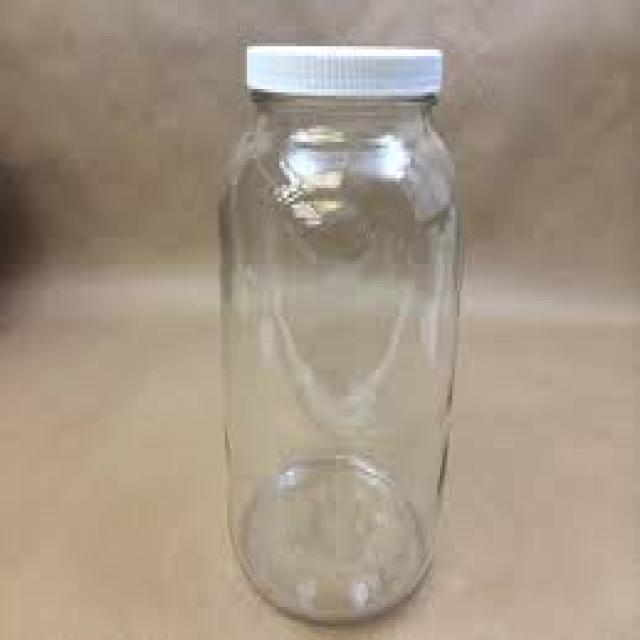glass: (215, 89, 460, 624)
plastic: (240, 40, 442, 93)
